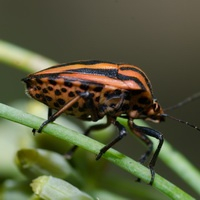insect: (23, 60, 165, 181)
